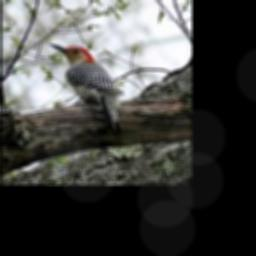Woodpecker: (48, 43, 124, 131)
